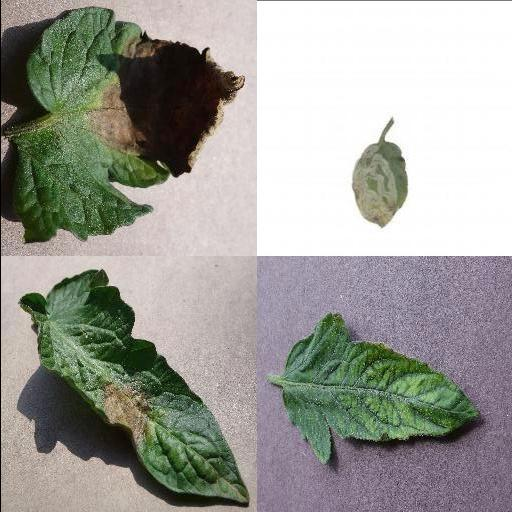Late Blight: (11, 8, 247, 246), (15, 270, 249, 506)
Leaf Miner: (348, 139, 405, 227)
Mosaic Virus: (280, 311, 480, 471)
